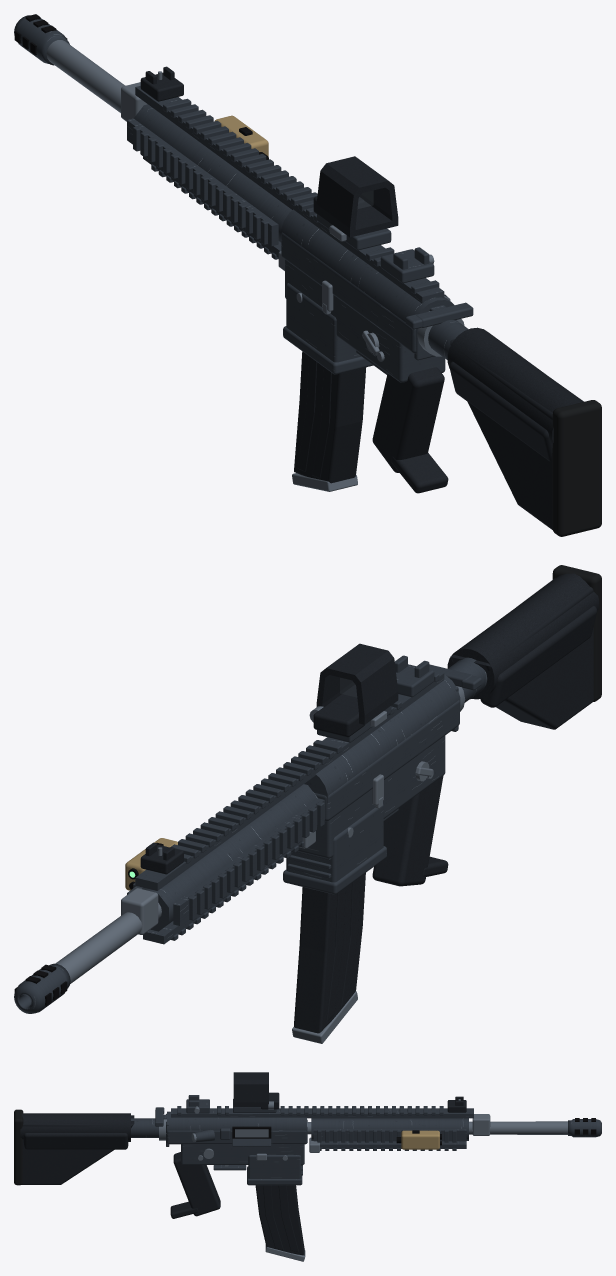
3 renders of one model, top to bottom at view 1: azimuth 30°, elevation 25°; view 2: azimuth 150°, elevation 25°; view 3: azimuth 270°, elevation 25°, orthographic. The views are drawn at different scales.
Parts seen in each view (by area): view 1: m416_static_gunmetal, m416_static_polymer, mag_body, m416_static_rubber, m416_static_steel, charging_handle_body, m416_static_fde; view 2: m416_static_gunmetal, m416_static_polymer, mag_body, m416_static_steel, m416_static_rubber, mag_base; view 3: m416_static_gunmetal, m416_static_polymer, mag_body, m416_static_steel, m416_static_fde, m416_static_rubber, m416_static_dark, bolt_vis.
Boxes of the visible parts, box(x1,y1,x2,y2) form: m416_static_gunmetal: box(14, 15, 468, 382); m416_static_polymer: box(140, 66, 583, 529); mag_body: box(294, 351, 366, 483); m416_static_rubber: box(552, 400, 601, 536); m416_static_steel: box(46, 40, 464, 361); charging_handle_body: box(405, 302, 473, 329); m416_static_fde: box(215, 115, 268, 156); m416_static_gunmetal: box(14, 655, 487, 1013); m416_static_polymer: box(140, 573, 598, 886); mag_body: box(294, 873, 365, 1033); m416_static_steel: box(55, 686, 465, 983); m416_static_rubber: box(552, 565, 601, 701); mag_base: box(292, 991, 357, 1043); m416_static_gunmetal: box(131, 1095, 601, 1185); m416_static_polymer: box(20, 1072, 466, 1218); mag_body: box(255, 1185, 304, 1255); m416_static_steel: box(159, 1099, 567, 1160); m416_static_fde: box(401, 1130, 439, 1149); m416_static_rubber: box(14, 1109, 23, 1185); m416_static_dark: box(232, 1118, 596, 1145); bolt_vis: box(235, 1129, 268, 1137).
Size of the model in its own units: 0.093 by 0.3418 by 0.999.
Materials: 10 (2 with a texture image).
